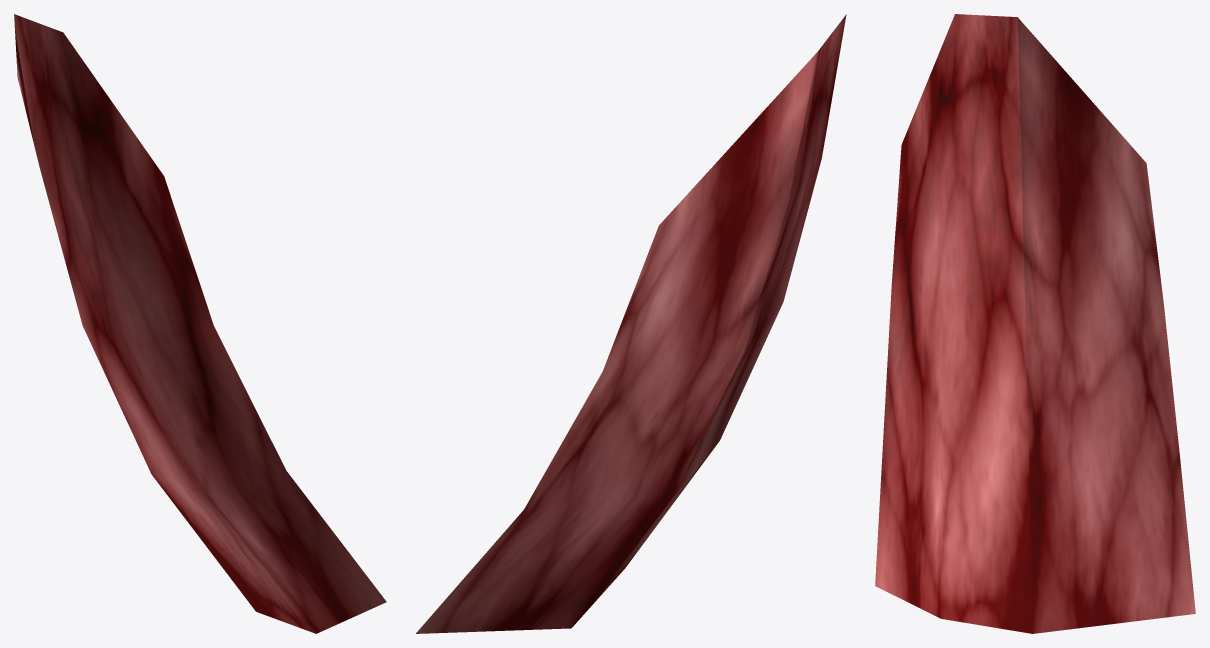
Rendered from canalslice.fbx.
3 views of the same model, side by side, from view 1: azimuth 30°, elevation 25°; view 2: azimuth 150°, elevation 25°; view 3: azimuth 270°, elevation 25° (orthographic). The views are drawn at different scales.
Parts seen in each view (by area): view 1: belly; view 2: belly; view 3: belly.
Part boxes in pixels (x1,y1,x2,y2): belly: (14,14,386,633); belly: (416,14,846,633); belly: (875,14,1195,633).
Size of the model in its own units: 982 by 2025 by 1116.
